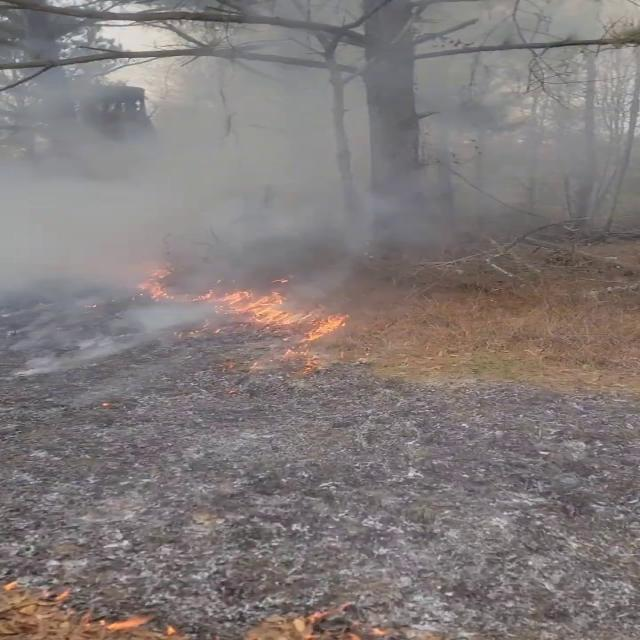Fire: (208, 274, 358, 370)
Smoke: (14, 0, 640, 365)
